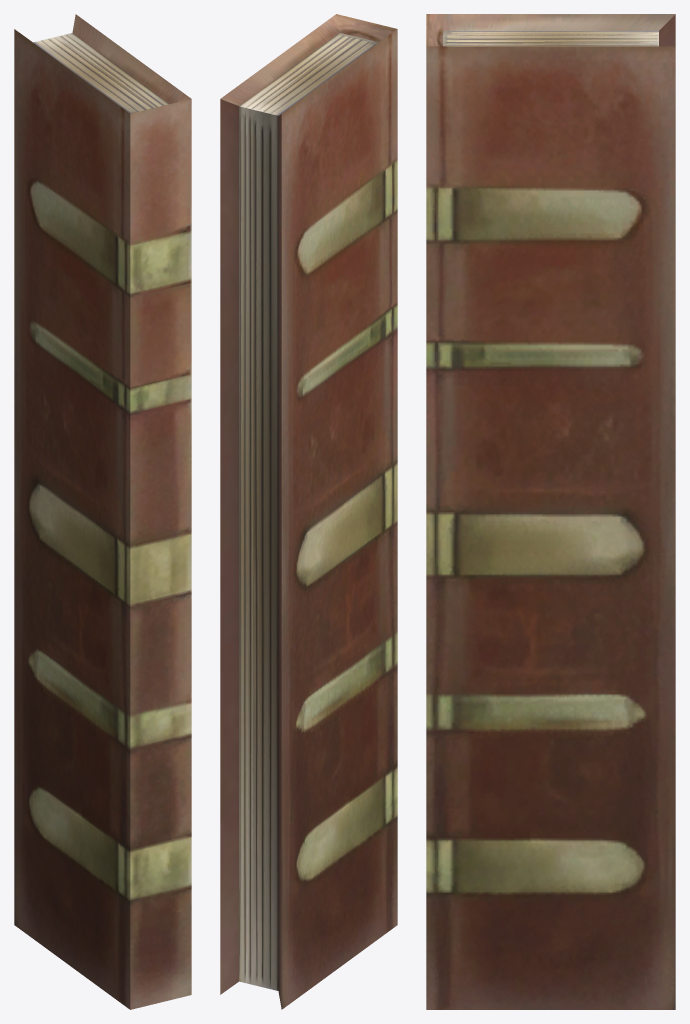
File: booklarge03.obj
The picture shows the model from 3 angles, left to right: view 1: azimuth 30°, elevation 25°; view 2: azimuth 150°, elevation 25°; view 3: azimuth 270°, elevation 25°; orthographic projection. The views are drawn at different scales.
Visible parts, largest first — view 1: booklarge03; view 2: booklarge03; view 3: booklarge03.
Boxes of the visible parts, bbox=[...] form: booklarge03: bbox=[14, 14, 191, 1009]; booklarge03: bbox=[220, 14, 397, 1009]; booklarge03: bbox=[426, 14, 675, 1009].
Bounding box in the file's own units: 0.1181 × 1.65 × 0.3868.
1 material, 1 textured.
